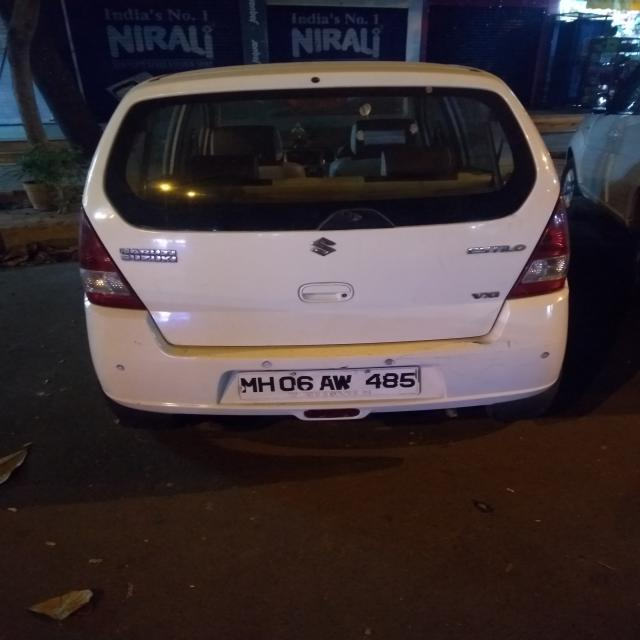Number-Plate: (226, 366, 425, 402)
